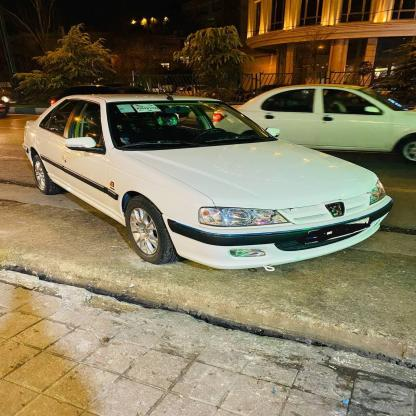Car: (17, 93, 399, 292), (209, 85, 416, 179)
